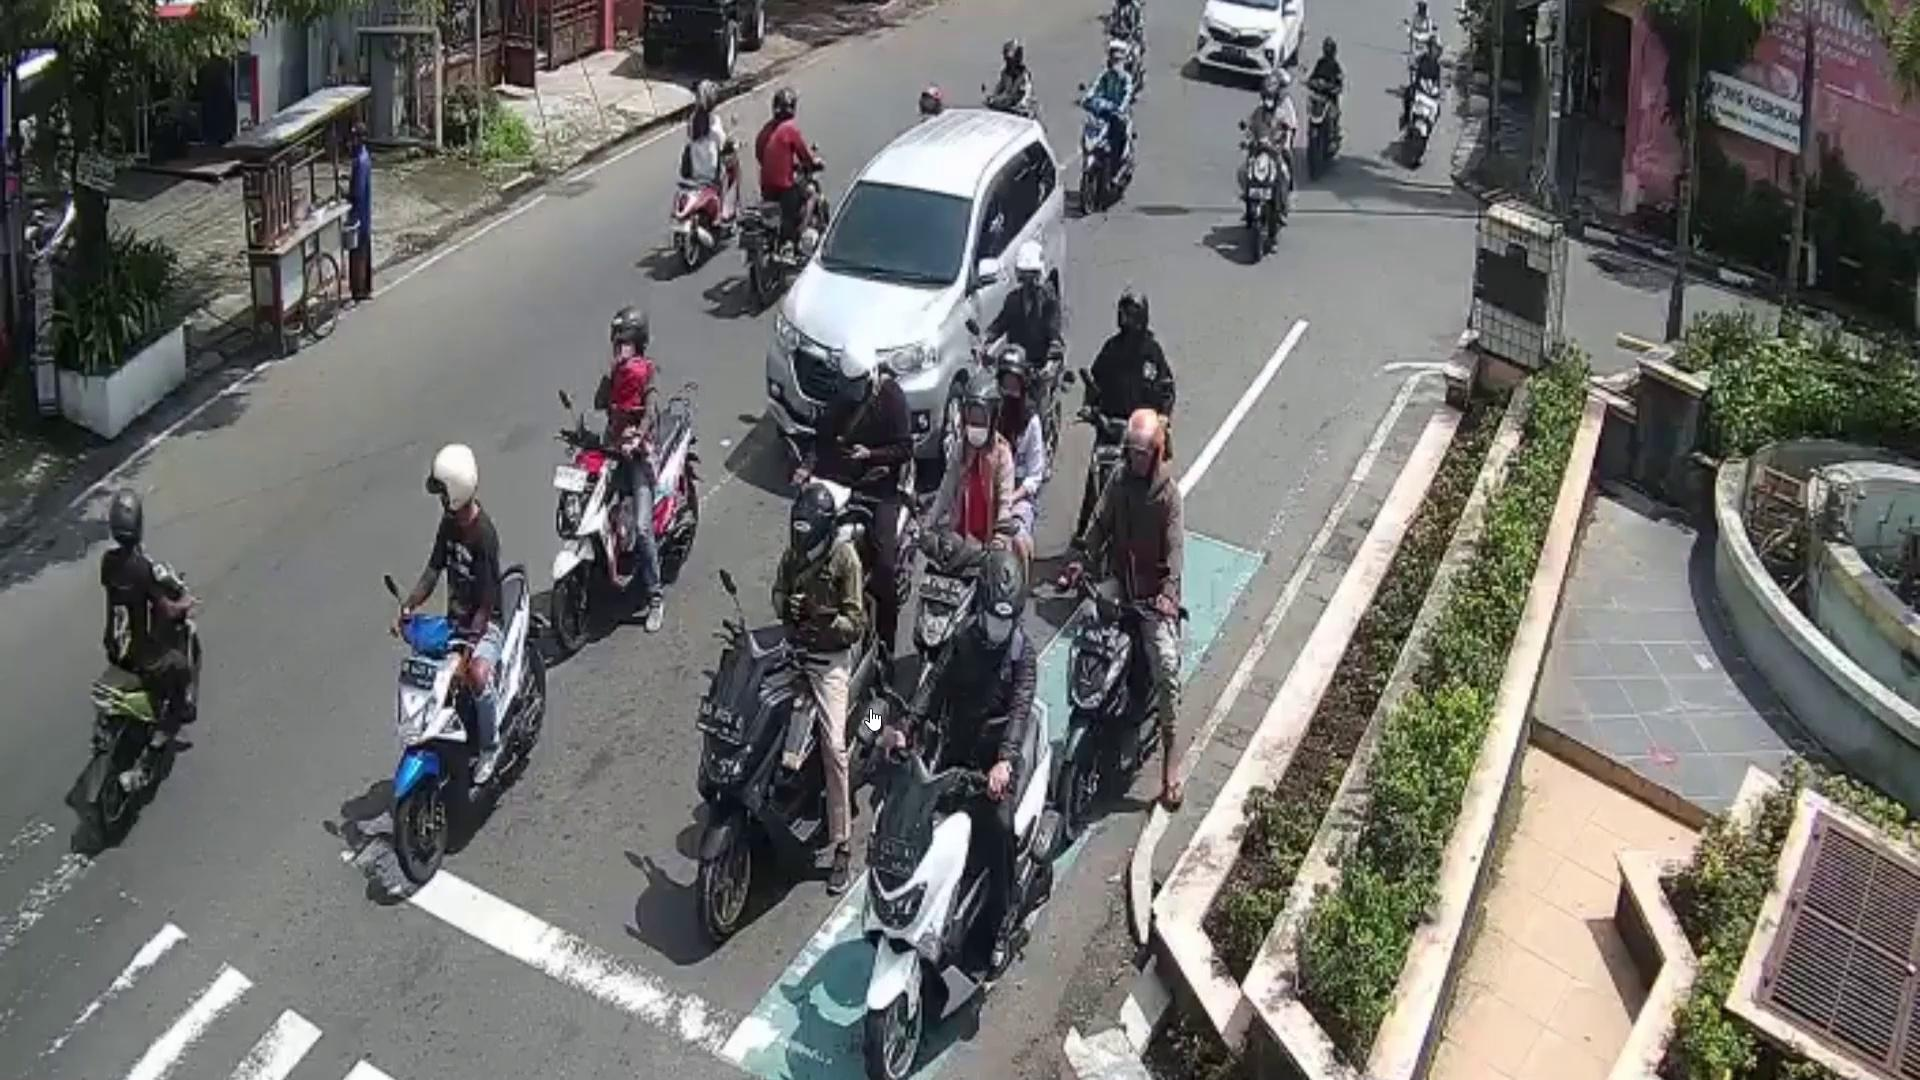car: (766, 107, 1068, 467), (1191, 0, 1302, 83)
motorbike: (868, 694, 1060, 1080), (699, 607, 885, 943), (389, 560, 546, 890), (545, 405, 692, 650), (82, 555, 202, 832), (1077, 579, 1195, 825), (674, 137, 740, 266), (1242, 145, 1286, 261), (1400, 67, 1445, 173)
